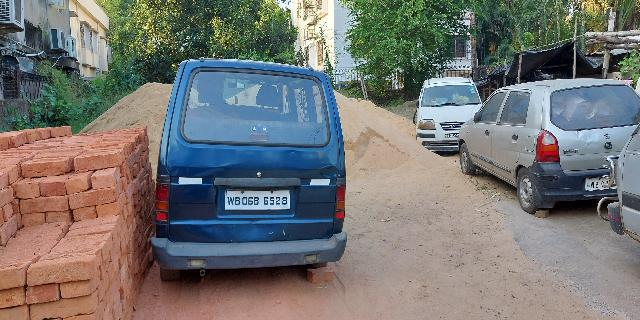Car: (456, 77, 640, 223), (413, 73, 483, 157)
Van: (150, 56, 349, 282)
